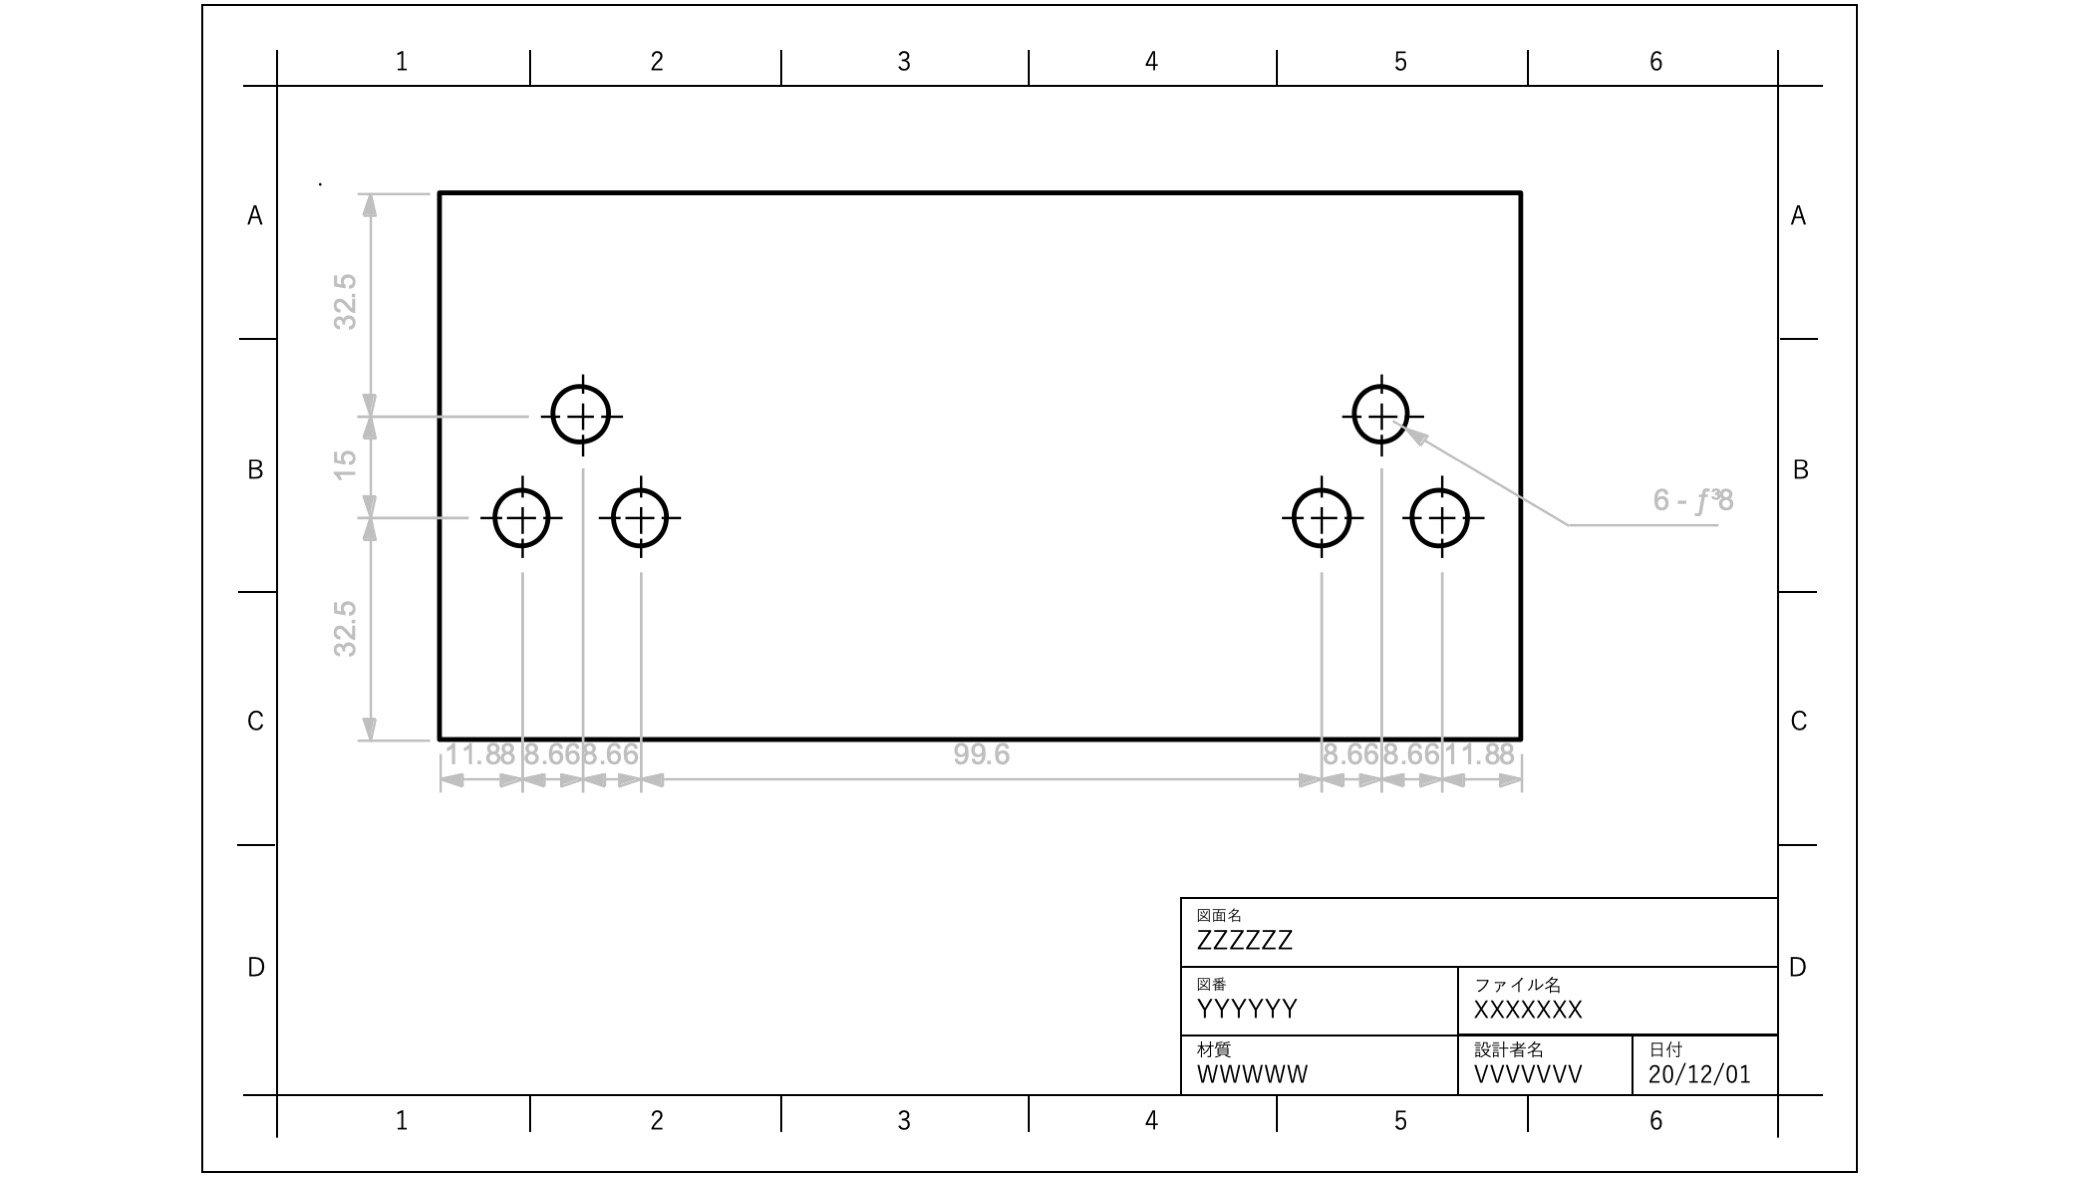circle: (542, 378, 617, 451), (486, 479, 560, 554), (606, 479, 676, 554), (1284, 483, 1359, 552), (1341, 381, 1419, 447), (1408, 486, 1475, 557)
